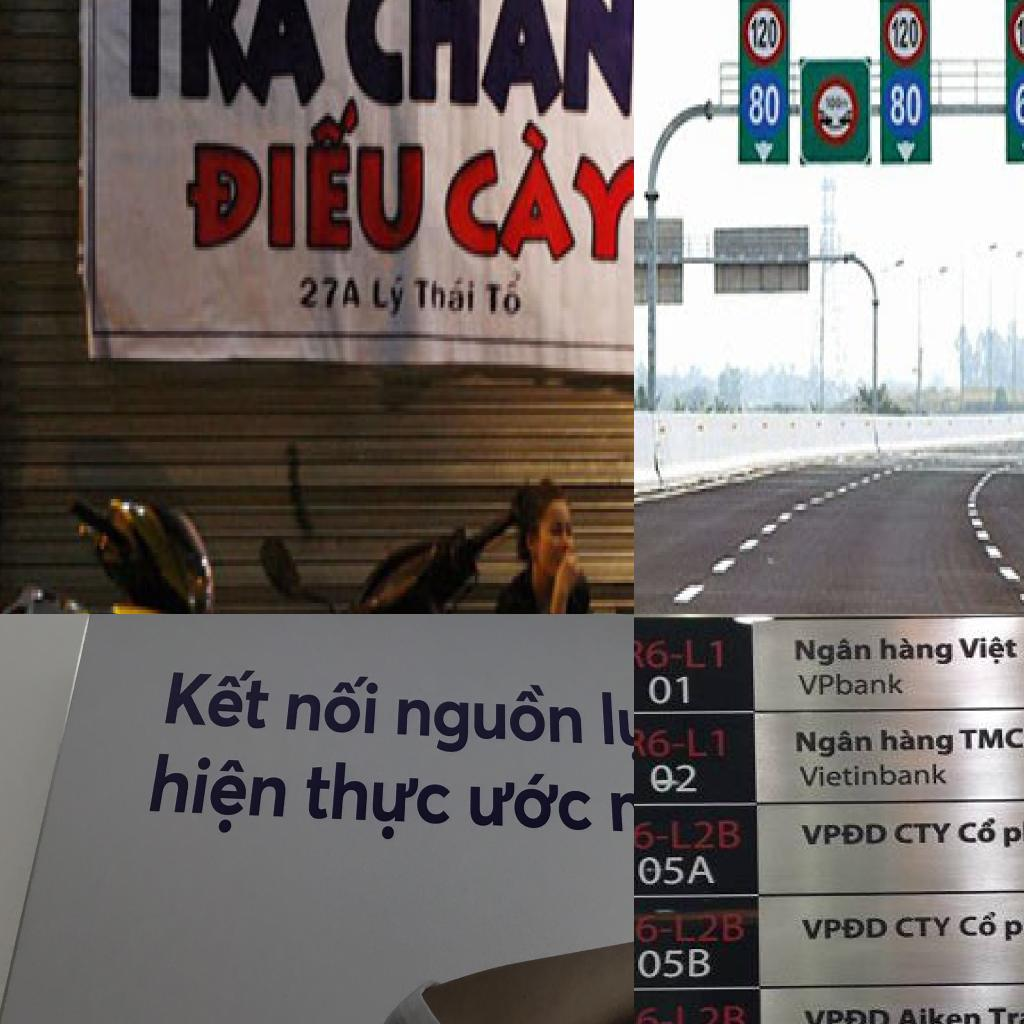text: (179, 96, 434, 267), (336, 0, 634, 136), (443, 116, 634, 284), (106, 0, 333, 109), (393, 682, 585, 755), (144, 742, 290, 837), (298, 760, 454, 842), (161, 658, 276, 734), (468, 772, 596, 837), (282, 672, 382, 737), (795, 762, 951, 790), (634, 817, 745, 854), (634, 910, 747, 945), (413, 267, 482, 318), (634, 636, 728, 672), (634, 725, 728, 760), (794, 670, 910, 698), (295, 271, 366, 314), (597, 685, 634, 767), (636, 854, 725, 888), (796, 914, 894, 944), (480, 267, 528, 328), (792, 635, 876, 669), (796, 819, 891, 849), (634, 945, 713, 981), (877, 634, 955, 668), (790, 728, 876, 758), (634, 1002, 751, 1024), (955, 632, 1023, 667), (879, 727, 957, 757), (368, 267, 411, 318), (798, 1003, 896, 1024), (892, 818, 956, 848), (894, 1003, 985, 1024), (648, 762, 702, 796), (956, 725, 1024, 752), (748, 80, 782, 132), (890, 80, 924, 132), (894, 914, 955, 941), (648, 674, 694, 708), (953, 817, 1000, 846), (957, 910, 1000, 940), (750, 14, 780, 54), (890, 14, 920, 54), (985, 1000, 1024, 1024), (1003, 907, 1024, 944), (1003, 818, 1024, 849), (1014, 80, 1024, 128), (1016, 14, 1024, 53)
